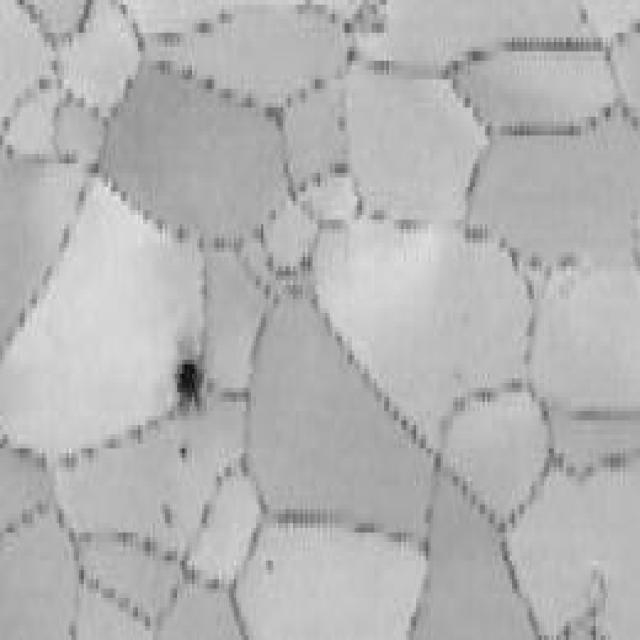good_void: (175, 345, 211, 407), (164, 502, 175, 528), (176, 445, 190, 465), (267, 556, 276, 573)
